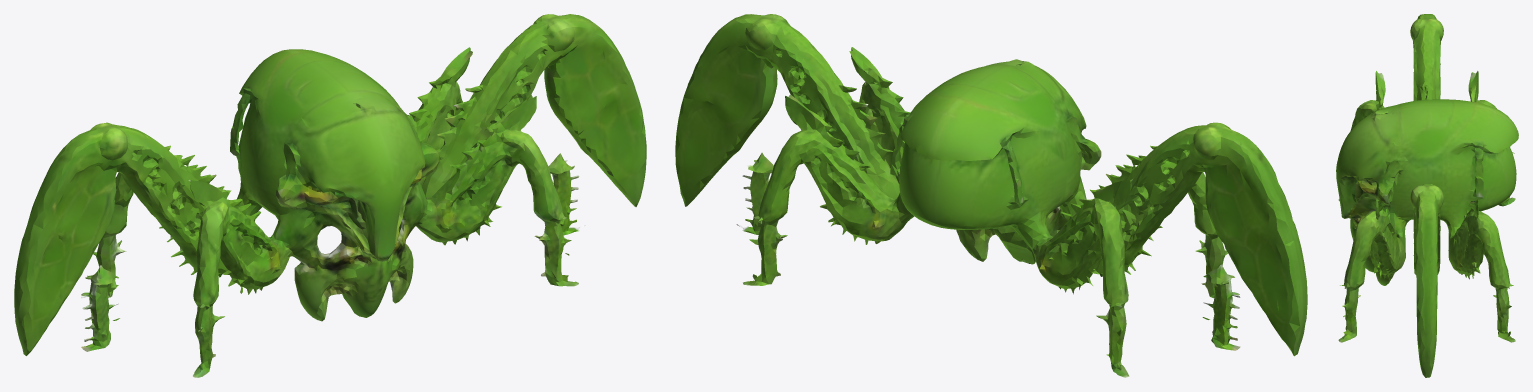
The model's file is mantis_hull.glb.
The picture shows the model from 3 angles, left to right: view 1: azimuth 30°, elevation 25°; view 2: azimuth 150°, elevation 25°; view 3: azimuth 270°, elevation 25°; orthographic projection. The views are drawn at different scales.
Parts seen in each view (by area): view 1: mantis_hull; view 2: mantis_hull; view 3: mantis_hull.
Boxes of the visible parts, left/top/right/bottom form: mantis_hull: left=14, top=14, right=646, bottom=377; mantis_hull: left=675, top=14, right=1307, bottom=377; mantis_hull: left=1336, top=14, right=1518, bottom=377.
Size of the model in its own units: 1.9 by 0.6342 by 0.6225.
1 material, 1 textured.
